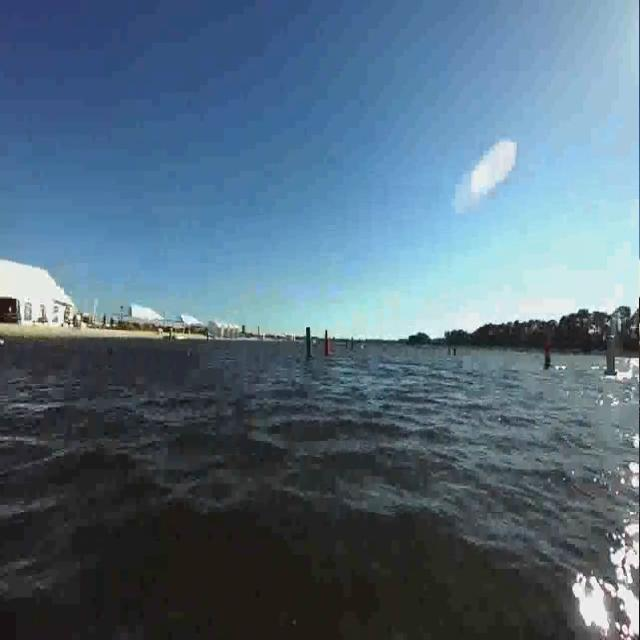green-column-buoy: (600, 323, 618, 378), (302, 327, 314, 362)
red-column-buoy: (544, 340, 555, 371), (324, 329, 334, 358)
